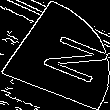N_NW: (12, 25, 98, 85)
